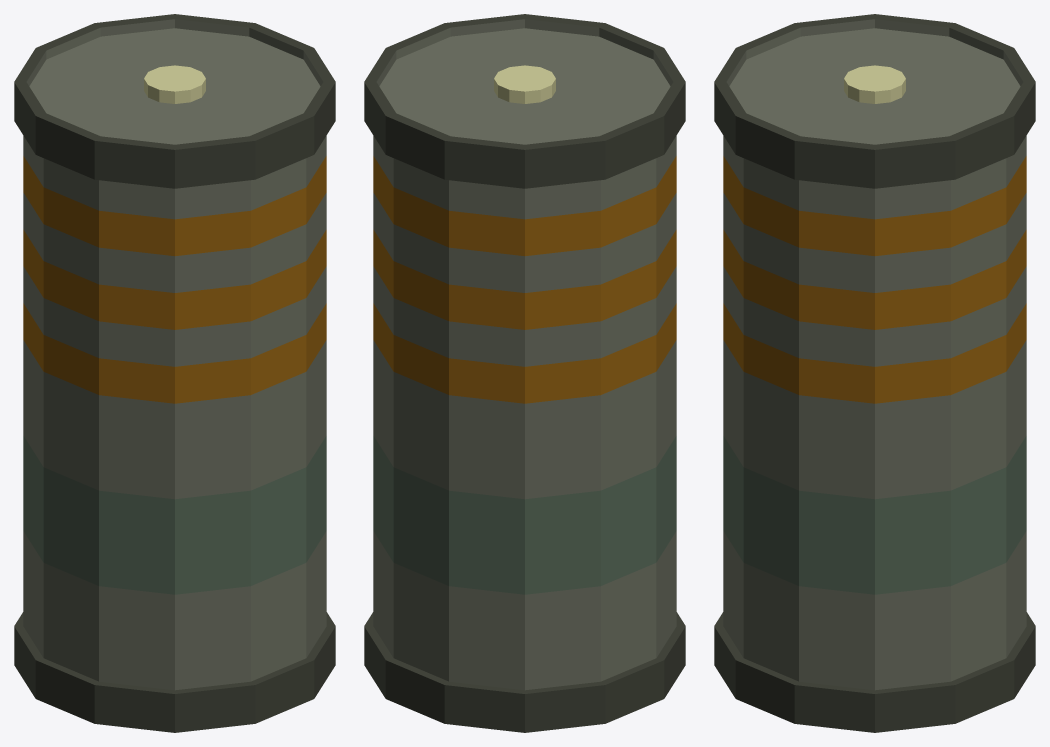
Rendered from battary.fbx.
3 views of the same model, side by side, from view 1: azimuth 30°, elevation 25°; view 2: azimuth 150°, elevation 25°; view 3: azimuth 270°, elevation 25° (orthographic).
Parts seen in each view (by area): view 1: Batary; view 2: Batary; view 3: Batary.
Boxes of the visible parts, left/top/right/bottom form: Batary: left=14, top=14, right=335, bottom=732; Batary: left=364, top=14, right=685, bottom=732; Batary: left=714, top=14, right=1035, bottom=732.
Size of the model in its own units: 60 by 121 by 60.
